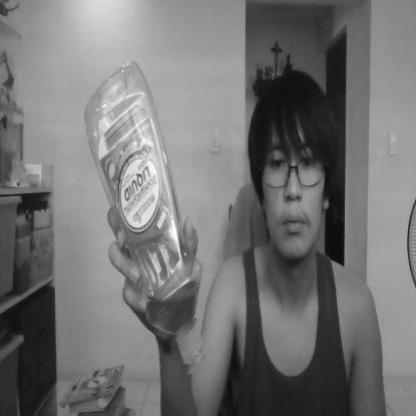Plastic Bottle: (80, 53, 210, 379)
